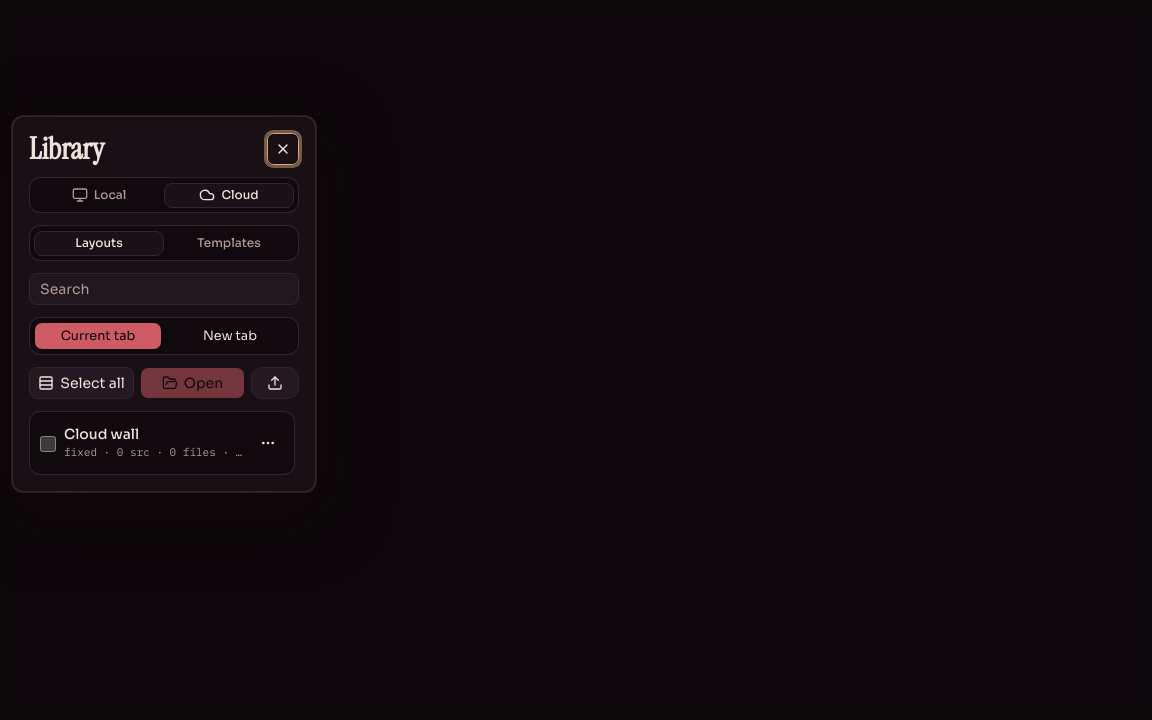
it: cloud save UI › shows Local and Cloud library locations with Cloud row actions
The width and height of the screenshot is (1152, 720).
Expected: the text "Cloud wall" is shown, [64,425,139,443]
Expected: the tab "Cloud" is shown, [164,182,294,208]
Click the button named "More actions for Cloud wall". click: (268, 443)
box: [252,427,284,459]
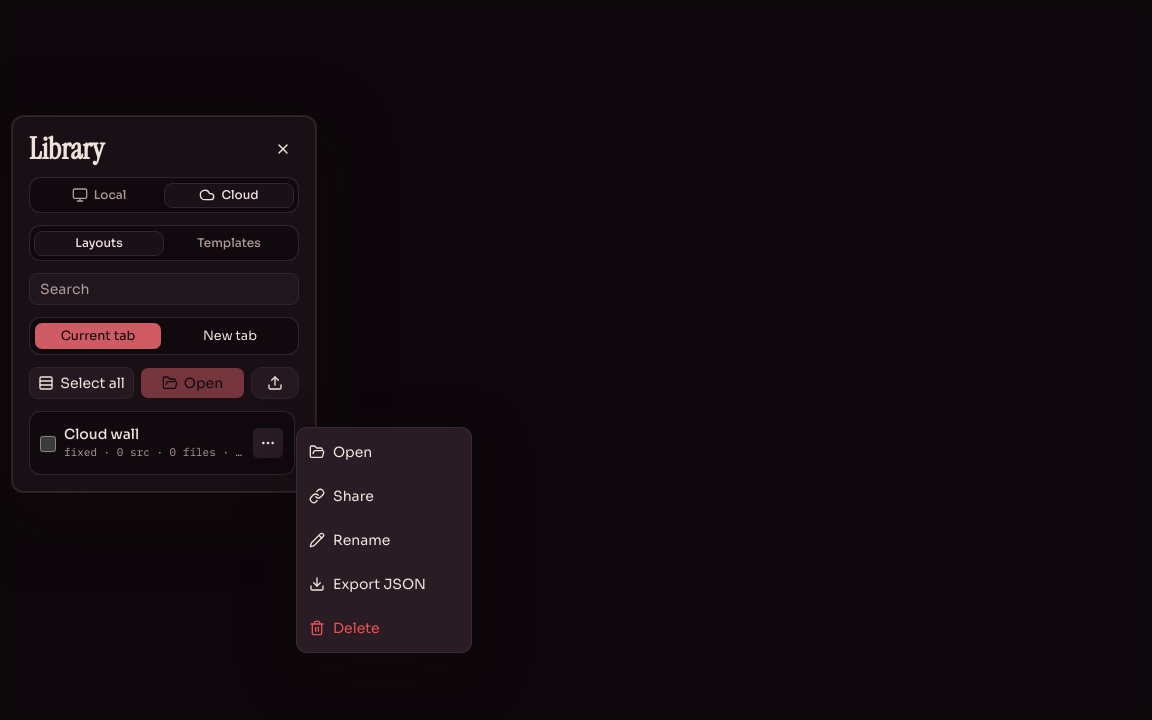
Expected: the menu item "Share" is shown, [301,476,467,516]
Expected: the menu item "Export JSON" is shown, [301,564,467,604]
